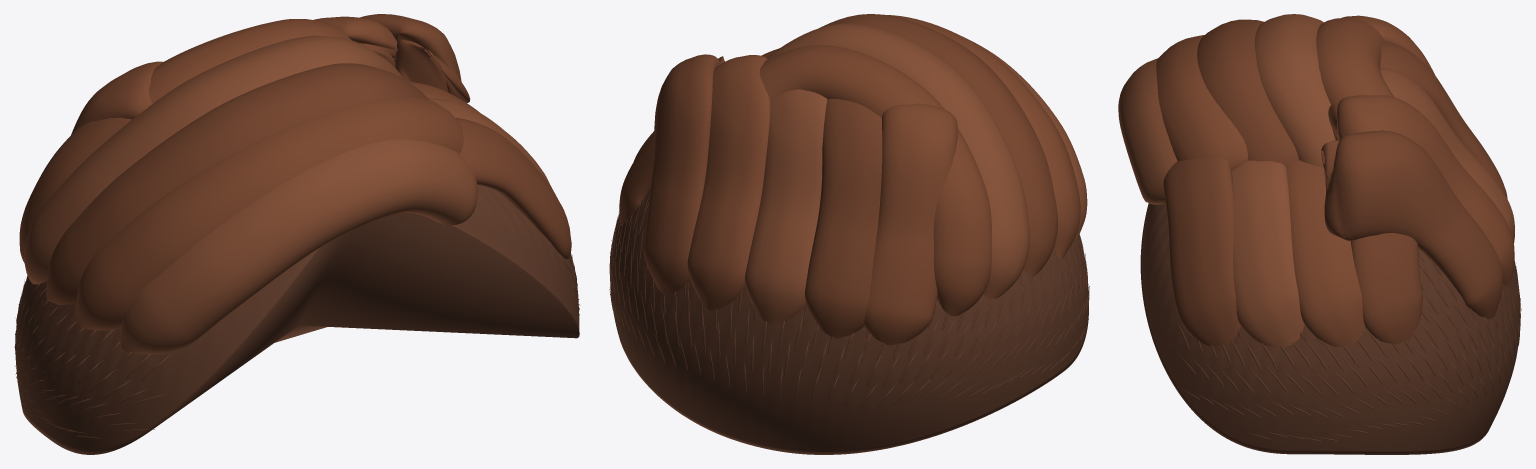
The model's file is Masculine-taper-hair.glb.
3 renders of one model, left to right at view 1: azimuth 30°, elevation 25°; view 2: azimuth 150°, elevation 25°; view 3: azimuth 270°, elevation 25°, orthographic. The views are drawn at different scales.
Parts seen in each view (by area): view 1: Hair / Taper short sides, Hair / Taper top 0, Hair / Taper top 1, Hair / Taper top 2, Hair / Taper top 3, Hair / Taper top 4, Hair / Taper short sweep 0, Hair / Taper crown 4, Hair / Taper fine direction, Hair / Taper crown 0, Hair / Taper crown 3, Hair / Taper short sweep 1; view 2: Hair / Taper short sides, Hair / Taper crown 0, Hair / Taper top 4, Hair / Taper crown 3, Hair / Taper crown 1, Hair / Taper crown 2, Hair / Taper top 3, Hair / Taper crown 4, Hair / Taper fine direction, Hair / Taper top 2, Hair / Taper top 1, Hair / Taper short sweep 3 (+1 smaller); view 3: Hair / Taper short sides, Hair / Taper crown 4, Hair / Taper short sweep 0, Hair / Taper short sweep 1, Hair / Taper short sweep 2, Hair / Taper top 3, Hair / Taper top 2, Hair / Taper crown 3, Hair / Taper top 1, Hair / Taper fine direction, Hair / Taper short sweep 3, Hair / Taper top 0 (+4 smaller).
Boxes of the visible parts, x1,y1,x2,y2 form: Hair / Taper short sides: [15, 185, 579, 454]; Hair / Taper top 0: [119, 139, 477, 354]; Hair / Taper top 1: [75, 96, 463, 330]; Hair / Taper top 2: [46, 63, 428, 304]; Hair / Taper top 3: [24, 35, 403, 284]; Hair / Taper top 4: [19, 19, 358, 262]; Hair / Taper short sweep 0: [455, 117, 571, 258]; Hair / Taper crown 4: [360, 14, 470, 102]; Hair / Taper fine direction: [14, 253, 580, 438]; Hair / Taper crown 0: [71, 61, 162, 134]; Hair / Taper crown 3: [314, 16, 397, 67]; Hair / Taper short sweep 1: [428, 98, 553, 190]; Hair / Taper short sides: [610, 188, 1088, 454]; Hair / Taper crown 0: [864, 103, 957, 345]; Hair / Taper top 4: [759, 45, 991, 316]; Hair / Taper crown 3: [687, 55, 770, 310]; Hair / Taper crown 1: [805, 98, 882, 338]; Hair / Taper crown 2: [745, 89, 827, 324]; Hair / Taper top 3: [766, 23, 1029, 299]; Hair / Taper crown 4: [643, 54, 724, 294]; Hair / Taper fine direction: [609, 192, 1089, 407]; Hair / Taper top 2: [819, 14, 1057, 276]; Hair / Taper top 1: [883, 14, 1080, 259]; Hair / Taper short sweep 3: [619, 133, 654, 225]; Hair / Taper short sides: [1140, 203, 1520, 454]; Hair / Taper crown 4: [1321, 130, 1502, 319]; Hair / Taper short sweep 0: [1163, 157, 1240, 347]; Hair / Taper short sweep 1: [1231, 160, 1304, 348]; Hair / Taper short sweep 2: [1286, 160, 1365, 346]; Hair / Taper top 3: [1254, 14, 1335, 167]; Hair / Taper top 2: [1197, 19, 1298, 167]; Hair / Taper crown 3: [1328, 95, 1514, 286]; Hair / Taper top 1: [1156, 35, 1247, 170]; Hair / Taper fine direction: [1173, 253, 1521, 441]; Hair / Taper short sweep 3: [1350, 233, 1422, 344]; Hair / Taper top 0: [1118, 58, 1177, 204].
Bounding box in the file's own units: 0.9745 × 0.7523 × 0.7512.
